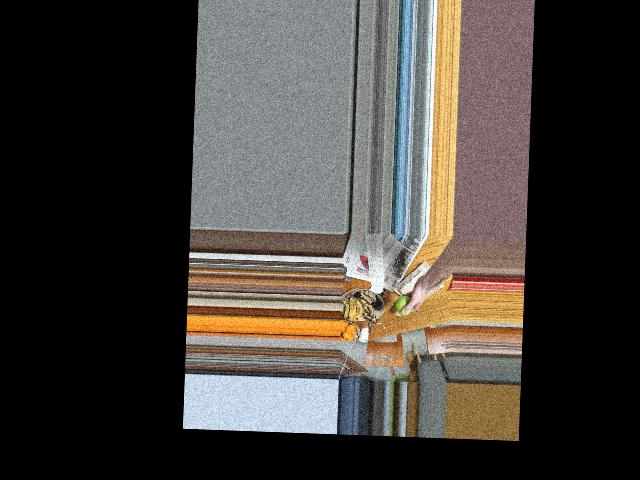apple: (396, 293, 415, 316)
